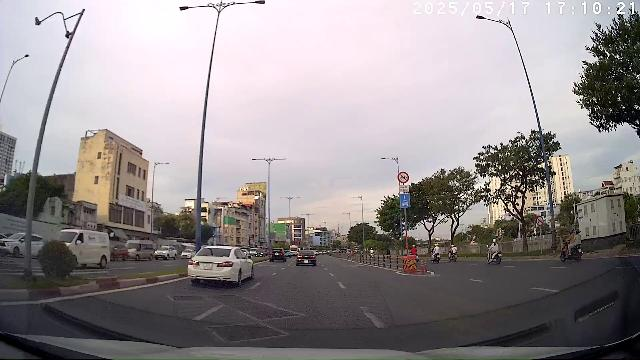103a-cam-oto: (536, 216, 544, 226)
